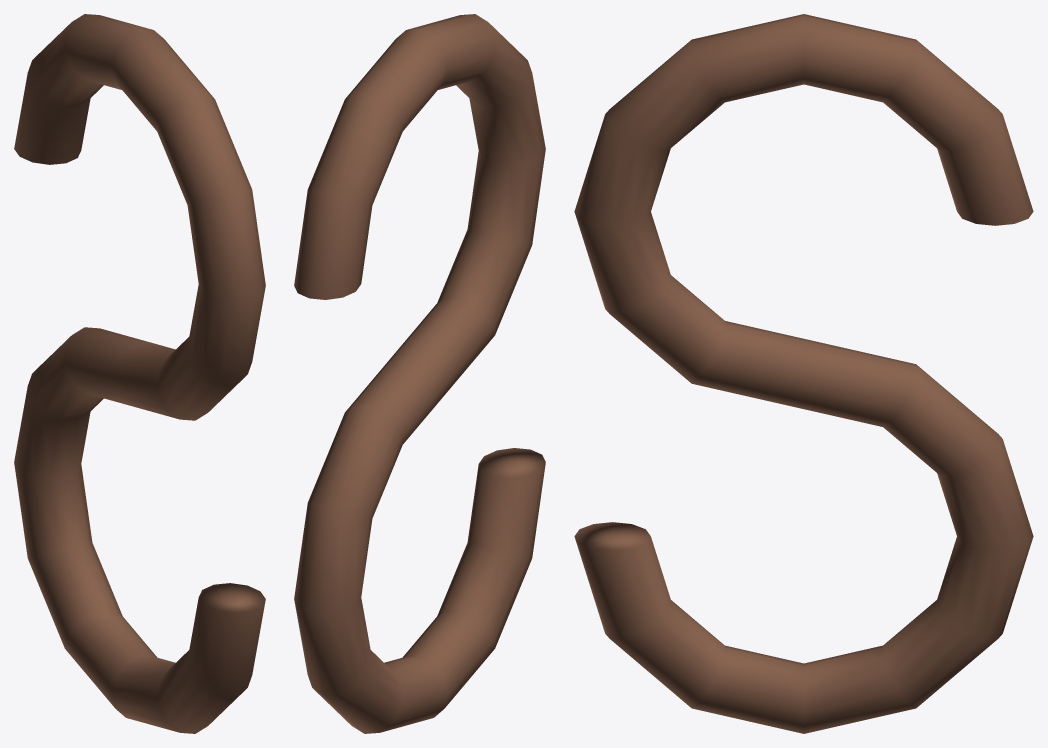
Rendered from Kitchen_set_Kitchen_set_Kitchen_set_Props_grp_Kitchen_set_North_grp_Kitchen_set_NorthWall_grp_Kitchen_set_Hook_2.obj.
3 renders of one model, left to right at view 1: azimuth 30°, elevation 25°; view 2: azimuth 150°, elevation 25°; view 3: azimuth 270°, elevation 25°, orthographic. The views are drawn at different scales.
Parts seen in each view (by area): view 1: Kitchen_set_Hook1 NCCA_Export; view 2: Kitchen_set_Hook1 NCCA_Export; view 3: Kitchen_set_Hook1 NCCA_Export.
Part boxes in pixels (x1,y1,x2,y2): Kitchen_set_Hook1 NCCA_Export: (14,14,265,733); Kitchen_set_Hook1 NCCA_Export: (294,14,545,733); Kitchen_set_Hook1 NCCA_Export: (574,14,1033,733).
Bounding box in the file's own units: 0.0854 × 1 × 0.5824.
